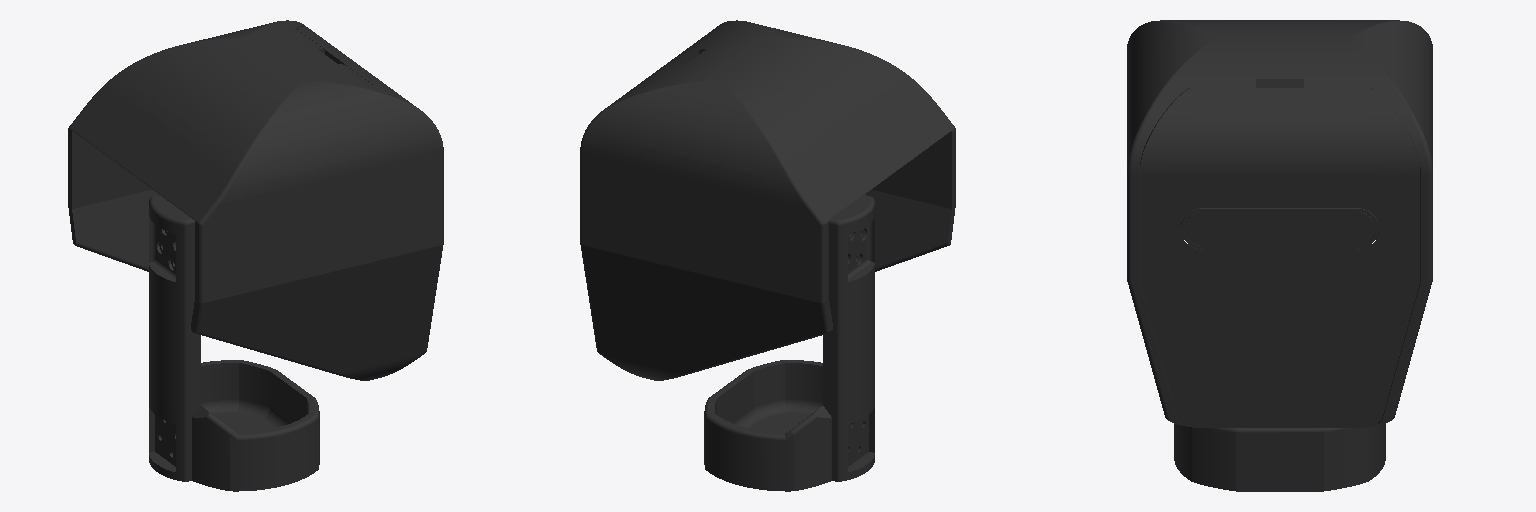
robot.urdf — test_union:
<?xml version="1.0"?>
<robot name="test_union">
	<material name="red">
		<color rgba="0.0 0.0 0.0 1"/>
	</material>
	<material name="green">
		<color rgba="0.0 1.0 0.0 1"/>
	</material>
	<material name="blue">
		<color rgba="0.0 0.0 1.0 1"/>
	</material>
	<material name="black">
		<color rgba="0.25 0.25 0.25 1"/>
	</material>
	<link name="neck_link"> <!--Links are rigid parts of robots-->
		  <visual>
			<origin rpy="0 0 0" xyz="0 0 0.0"/>
			<geometry>
			  <mesh filename="package://robot_urdf/meshes/visual/STL/RoboHabilis_Neck.stl" scale="0.001 0.001 0.001"/>
			</geometry>
			<material name="black"/>
		  </visual>
		  <collision>
			<origin rpy="0 0 0" xyz="0 0 0"/>
			<geometry>
			  <mesh filename="package://robot_urdf/meshes/collision/STL/RoboHabilis_Neck.stl" scale="0.001 0.001 0.001"/>
			</geometry>
		  </collision>
	</link>
	<link name="dx_link">
		  <visual>
			<origin rpy="0 0 0" xyz="0.0 0 0.0"/>
			<geometry>
			  <mesh filename="package://robot_urdf/meshes/visual/STL/RoboHabilis_DX.stl" scale="0.001 0.001 0.001"/>
			</geometry>
			<material name="black"/>
		  </visual>
		  <collision>
			<origin rpy="0 0 0" xyz="0.0 0 0.0"/>
			<geometry>
			  <mesh filename="package://robot_urdf/meshes/collision/STL/RoboHabilis_DX.stl" scale="0.001 0.001 0.001"/>
			</geometry>
		  </collision>
	</link>
	<link name="tilt_link">
		  <visual>
			<origin rpy="0 0 0" xyz="0.0 0 0"/> 
			<geometry>
			  <mesh filename="package://robot_urdf/meshes/visual/STL/RoboHabilis_Tilt.stl" scale="0.001 0.001 0.001"/>
			</geometry>
			<material name="black"/>
		  </visual>
		  <collision>
			<origin rpy="0 0 0" xyz="0.0 0 0"/>
			<geometry>
			  <mesh filename="package://robot_urdf/meshes/collision/STL/RoboHabilis_Tilt.stl" scale="0.001 0.001 0.001"/>
			</geometry>
		  </collision>
	</link>
  <link name="head_link">
		  <visual>
			<origin rpy="0 0 0" xyz="0.0 0.0 0.0"/> 
			<geometry>
			  <mesh filename="package://robot_urdf/meshes/visual/STL/RoboHabilis_Head.stl" scale="0.001 0.001 0.001"/>
			</geometry>
			<material name="black"/>
		  </visual>
		  <collision>
			<origin rpy="0 0 0" xyz="0.0 0.0 0.0"/>
			<geometry>
			  <mesh filename="package://robot_urdf/meshes/collision/STL/RoboHabilis_Head.stl" scale="0.001 0.001 0.001"/>
			</geometry>
		  </collision>
	</link>


	<joint name="neck_dx_joint" type="revolute">
		<parent link="neck_link"/>
		<child link="dx_link"/>
		<axis xyz="0 0 1"/>
		<origin rpy="0 0 0" xyz="-0.001621 0 0.1195"/>
    <limit lower="-0.34906585" upper="0.34906585" effort="10" velocity="1"/>
	  </joint>
	<joint name="dx_tilt_joint" type="revolute">
		<parent link="dx_link"/>
		<child link="tilt_link"/>
		<axis xyz="0 -1 0"/>
		<origin rpy="0 0 0.0" xyz="0.024 0 0"/>
    <limit lower="-0.872664626" upper="0.872664626" effort="10" velocity="1"/>
	  </joint>
  <joint name="tilt_head_joint" type="fixed">
		<origin rpy="0 0 0.0" xyz="0.028 0.0 0.0"/>
		<parent link="tilt_link"/>
		<child link="head_link"/>
	  </joint>
</robot>

--- Render facts (derived) ---
The picture shows the robot from 3 angles, left to right: view 1: azimuth 30°, elevation 25°; view 2: azimuth 150°, elevation 25°; view 3: azimuth 270°, elevation 25°; orthographic projection.
Model test_union with 4 links and 3 joints (2 revolute, 1 fixed), rooted at neck_link, posed all joints at 0.
Visible links, largest first — view 1: head_link, neck_link; view 2: head_link, neck_link; view 3: head_link, neck_link.
Link boxes in pixels (left/top/right/bottom): head_link: left=68, top=20, right=443, bottom=380; neck_link: left=149, top=195, right=319, bottom=491; head_link: left=580, top=20, right=955, bottom=380; neck_link: left=704, top=195, right=874, bottom=491; head_link: left=1127, top=20, right=1432, bottom=427; neck_link: left=1174, top=424, right=1385, bottom=491.
Bounding box of the posed robot: 0.1381 × 0.13 × 0.2063 m (x, y, z).
3 mesh visuals loaded from 4 distinct referenced files (3 binary STL); not drawn: 1 (reference not matched to a file when rendering).